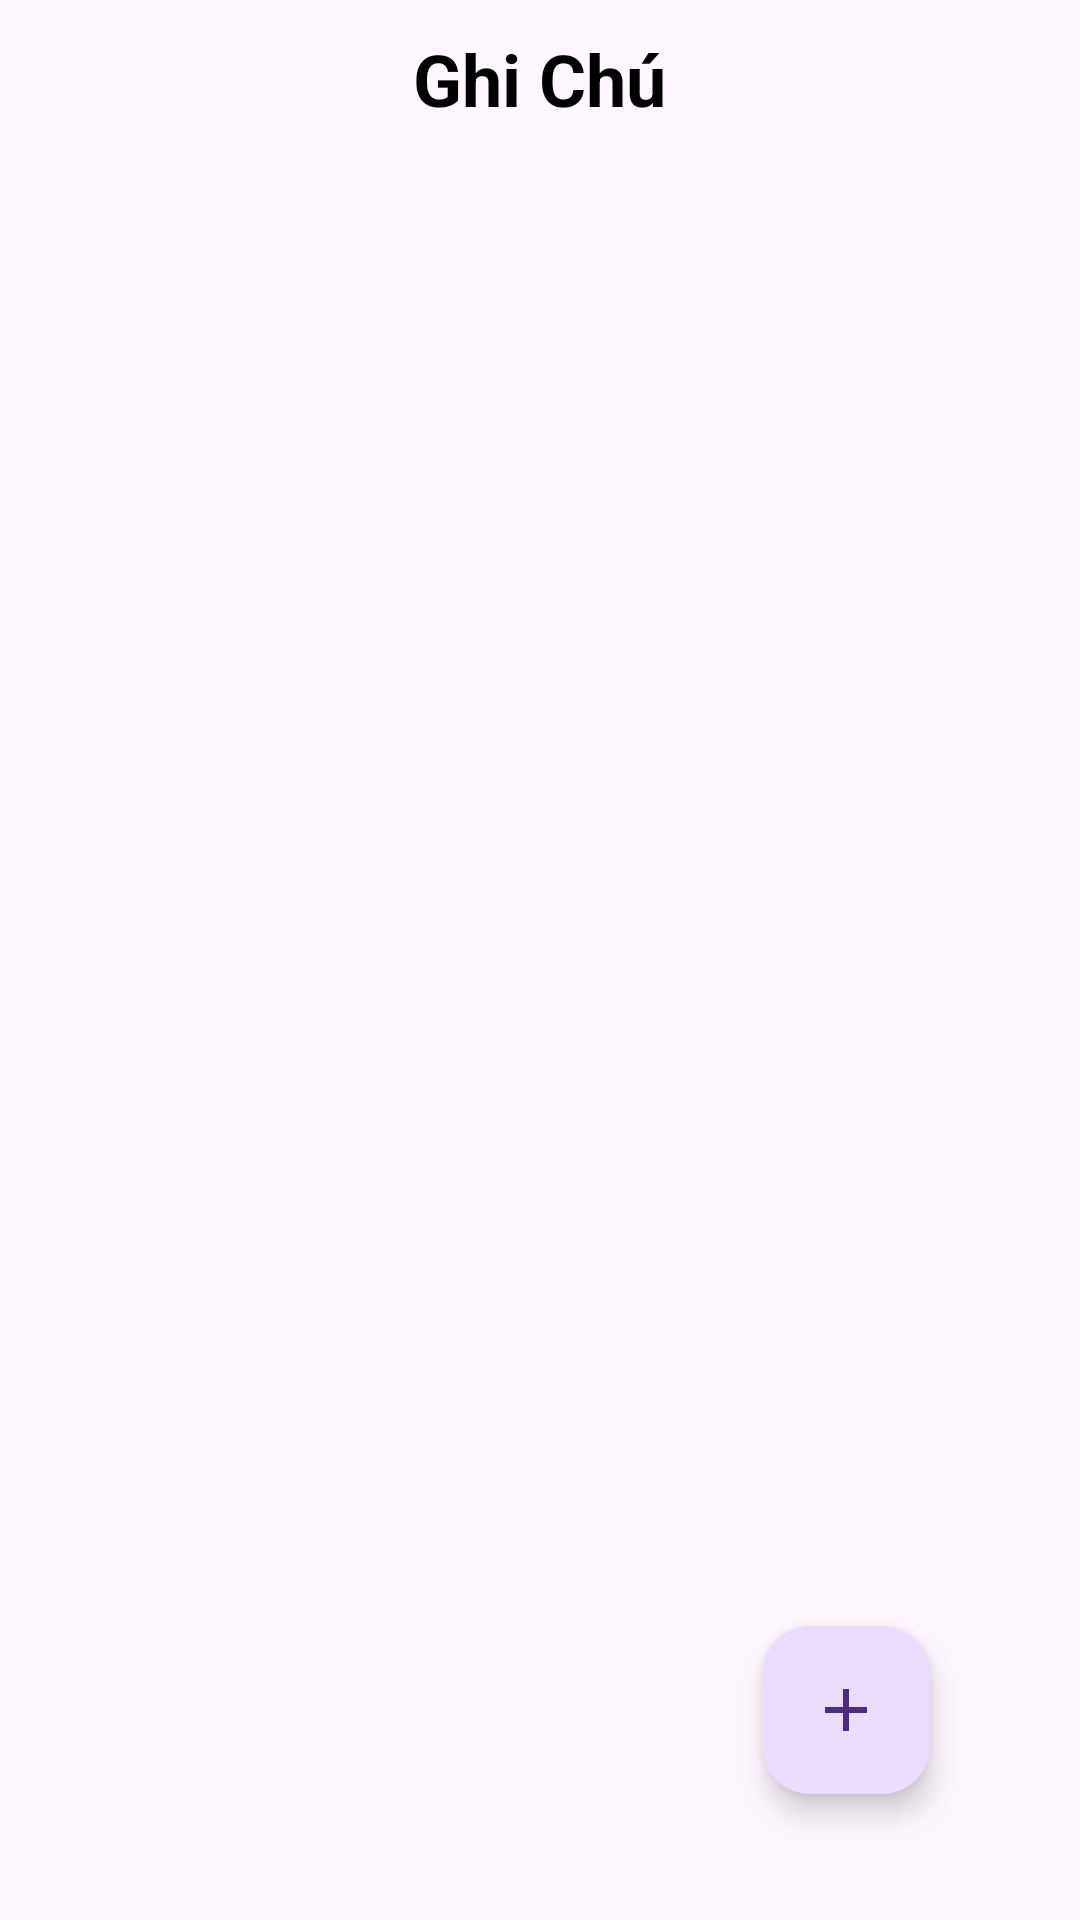

Named icons in this screenshot (1080×1920) and their bounding boxes, [x1,y1,x2,y2]:
add: [762,1626,930,1794]
